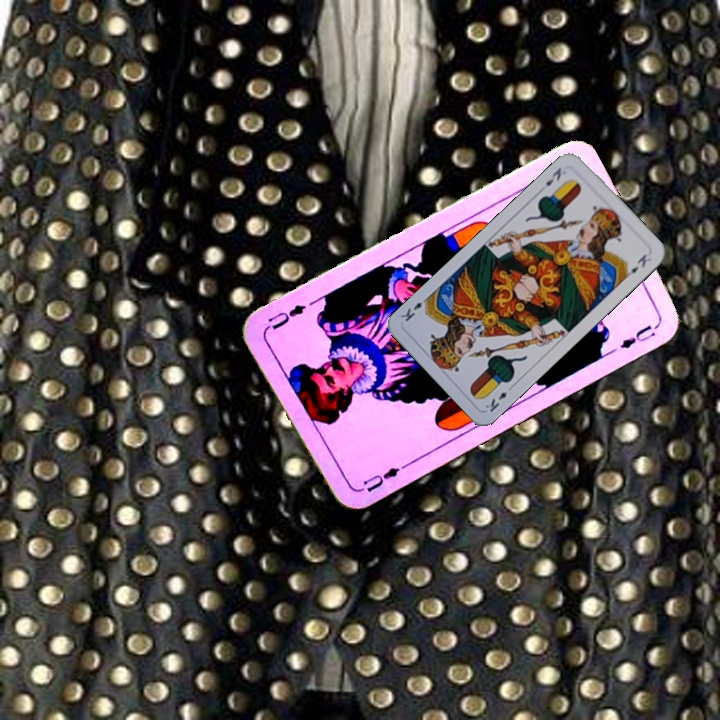EK: (481, 381, 516, 415), (541, 163, 564, 189)
EU: (353, 460, 409, 496)
